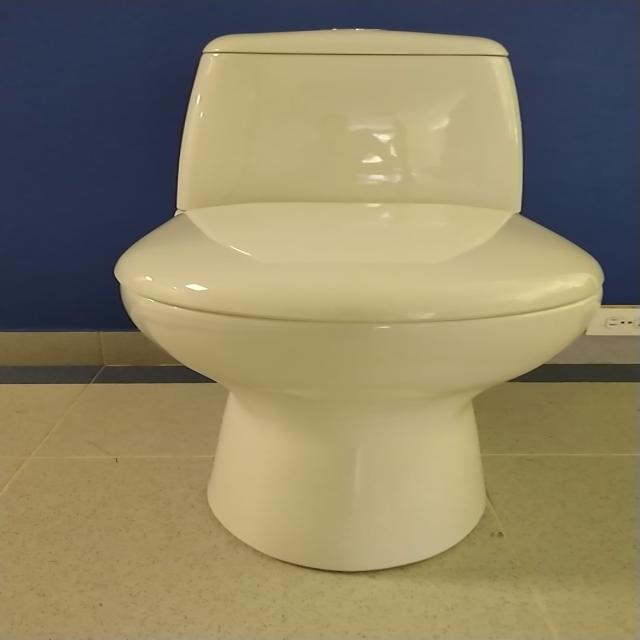toilet: (112, 27, 604, 572)
